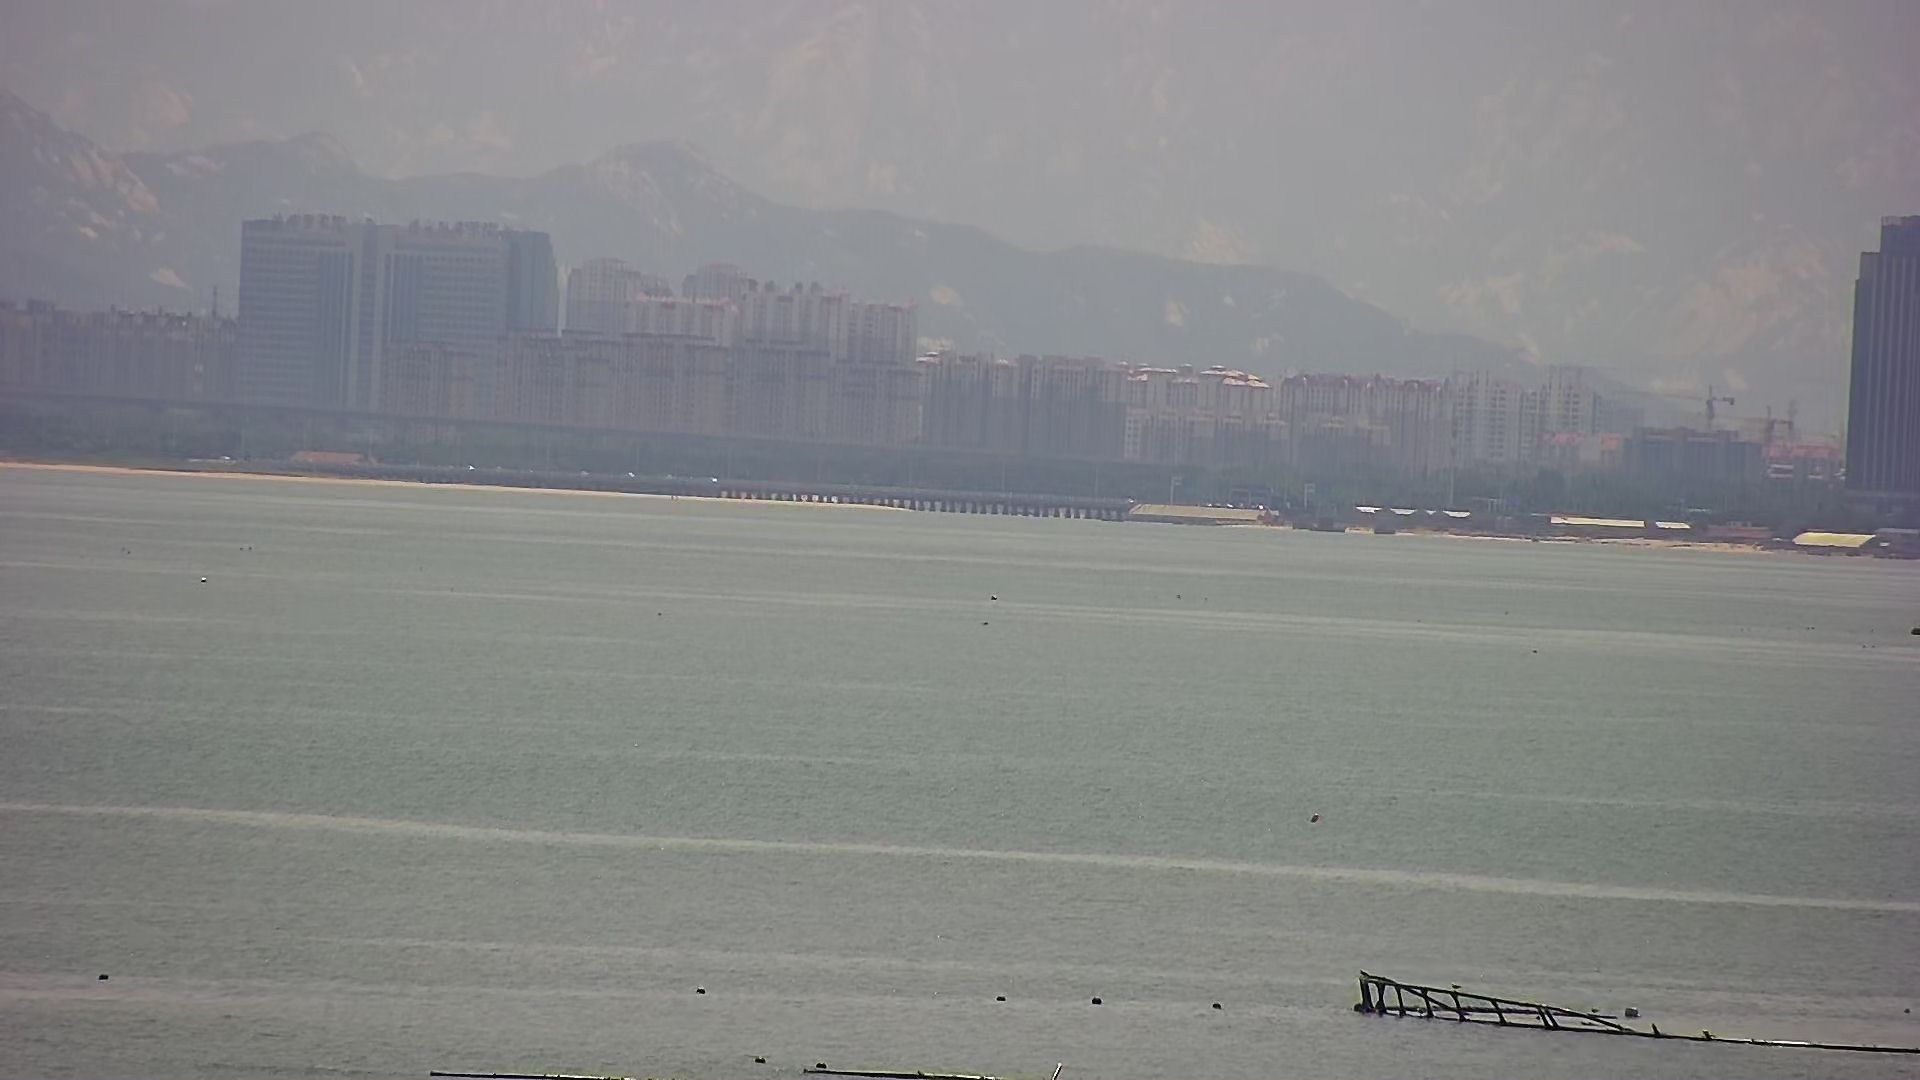rubbish: (1340, 967, 1920, 1054)
